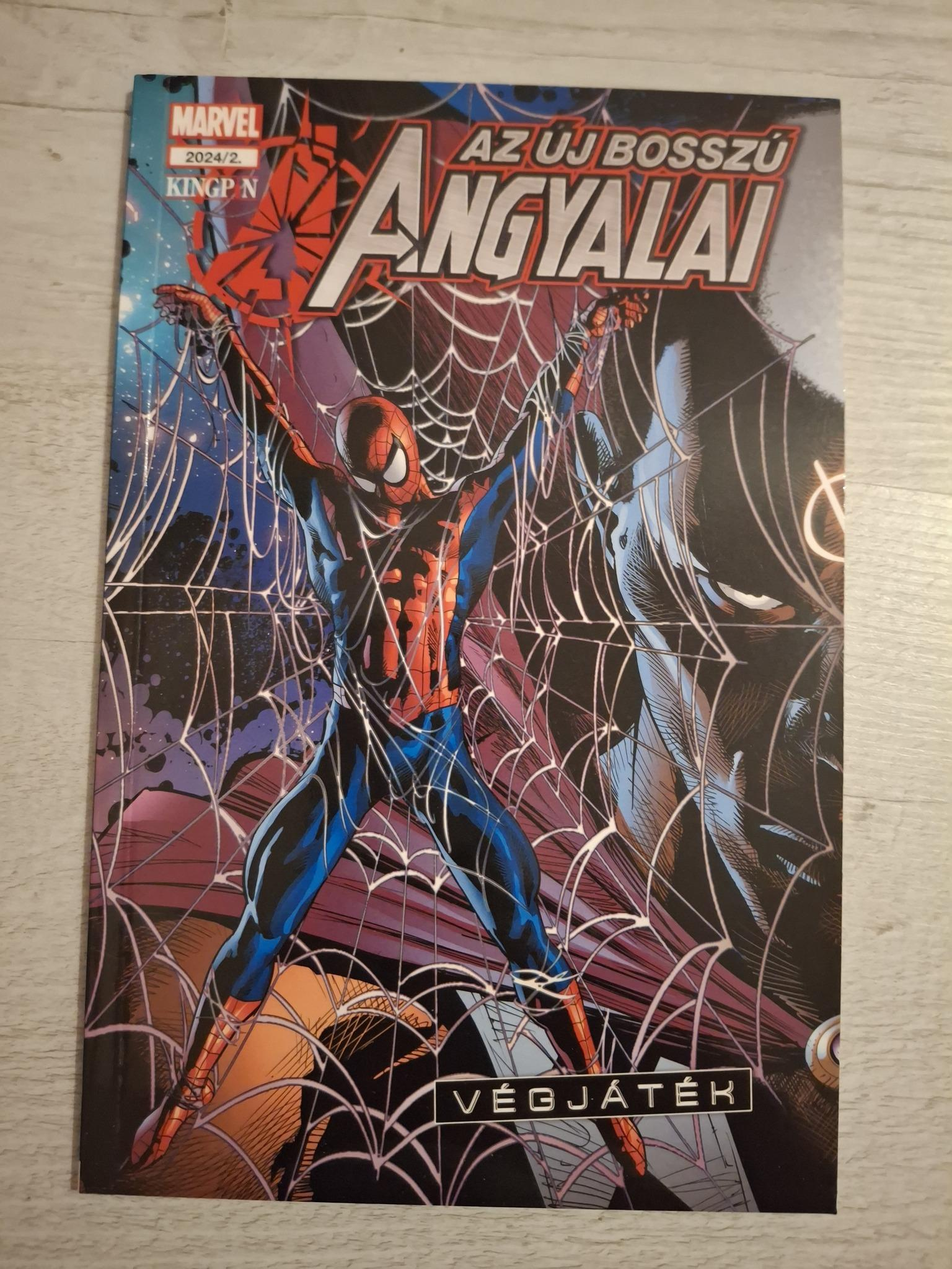comic: (80, 74, 863, 1214)
